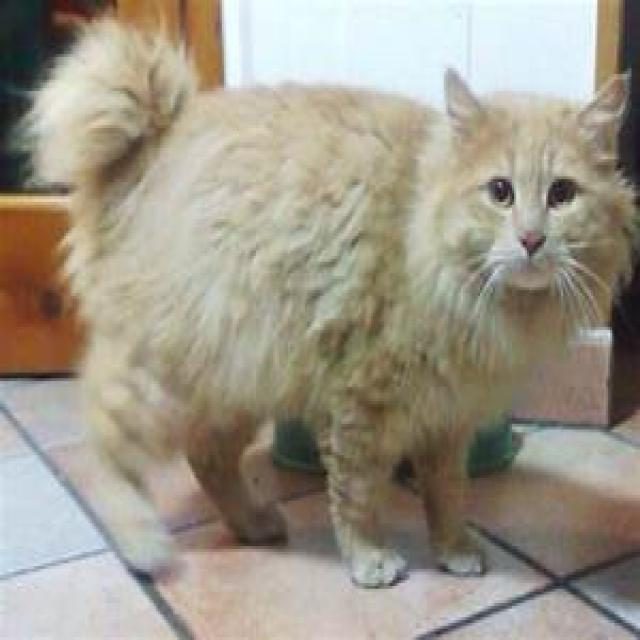cat: (11, 11, 638, 589)
